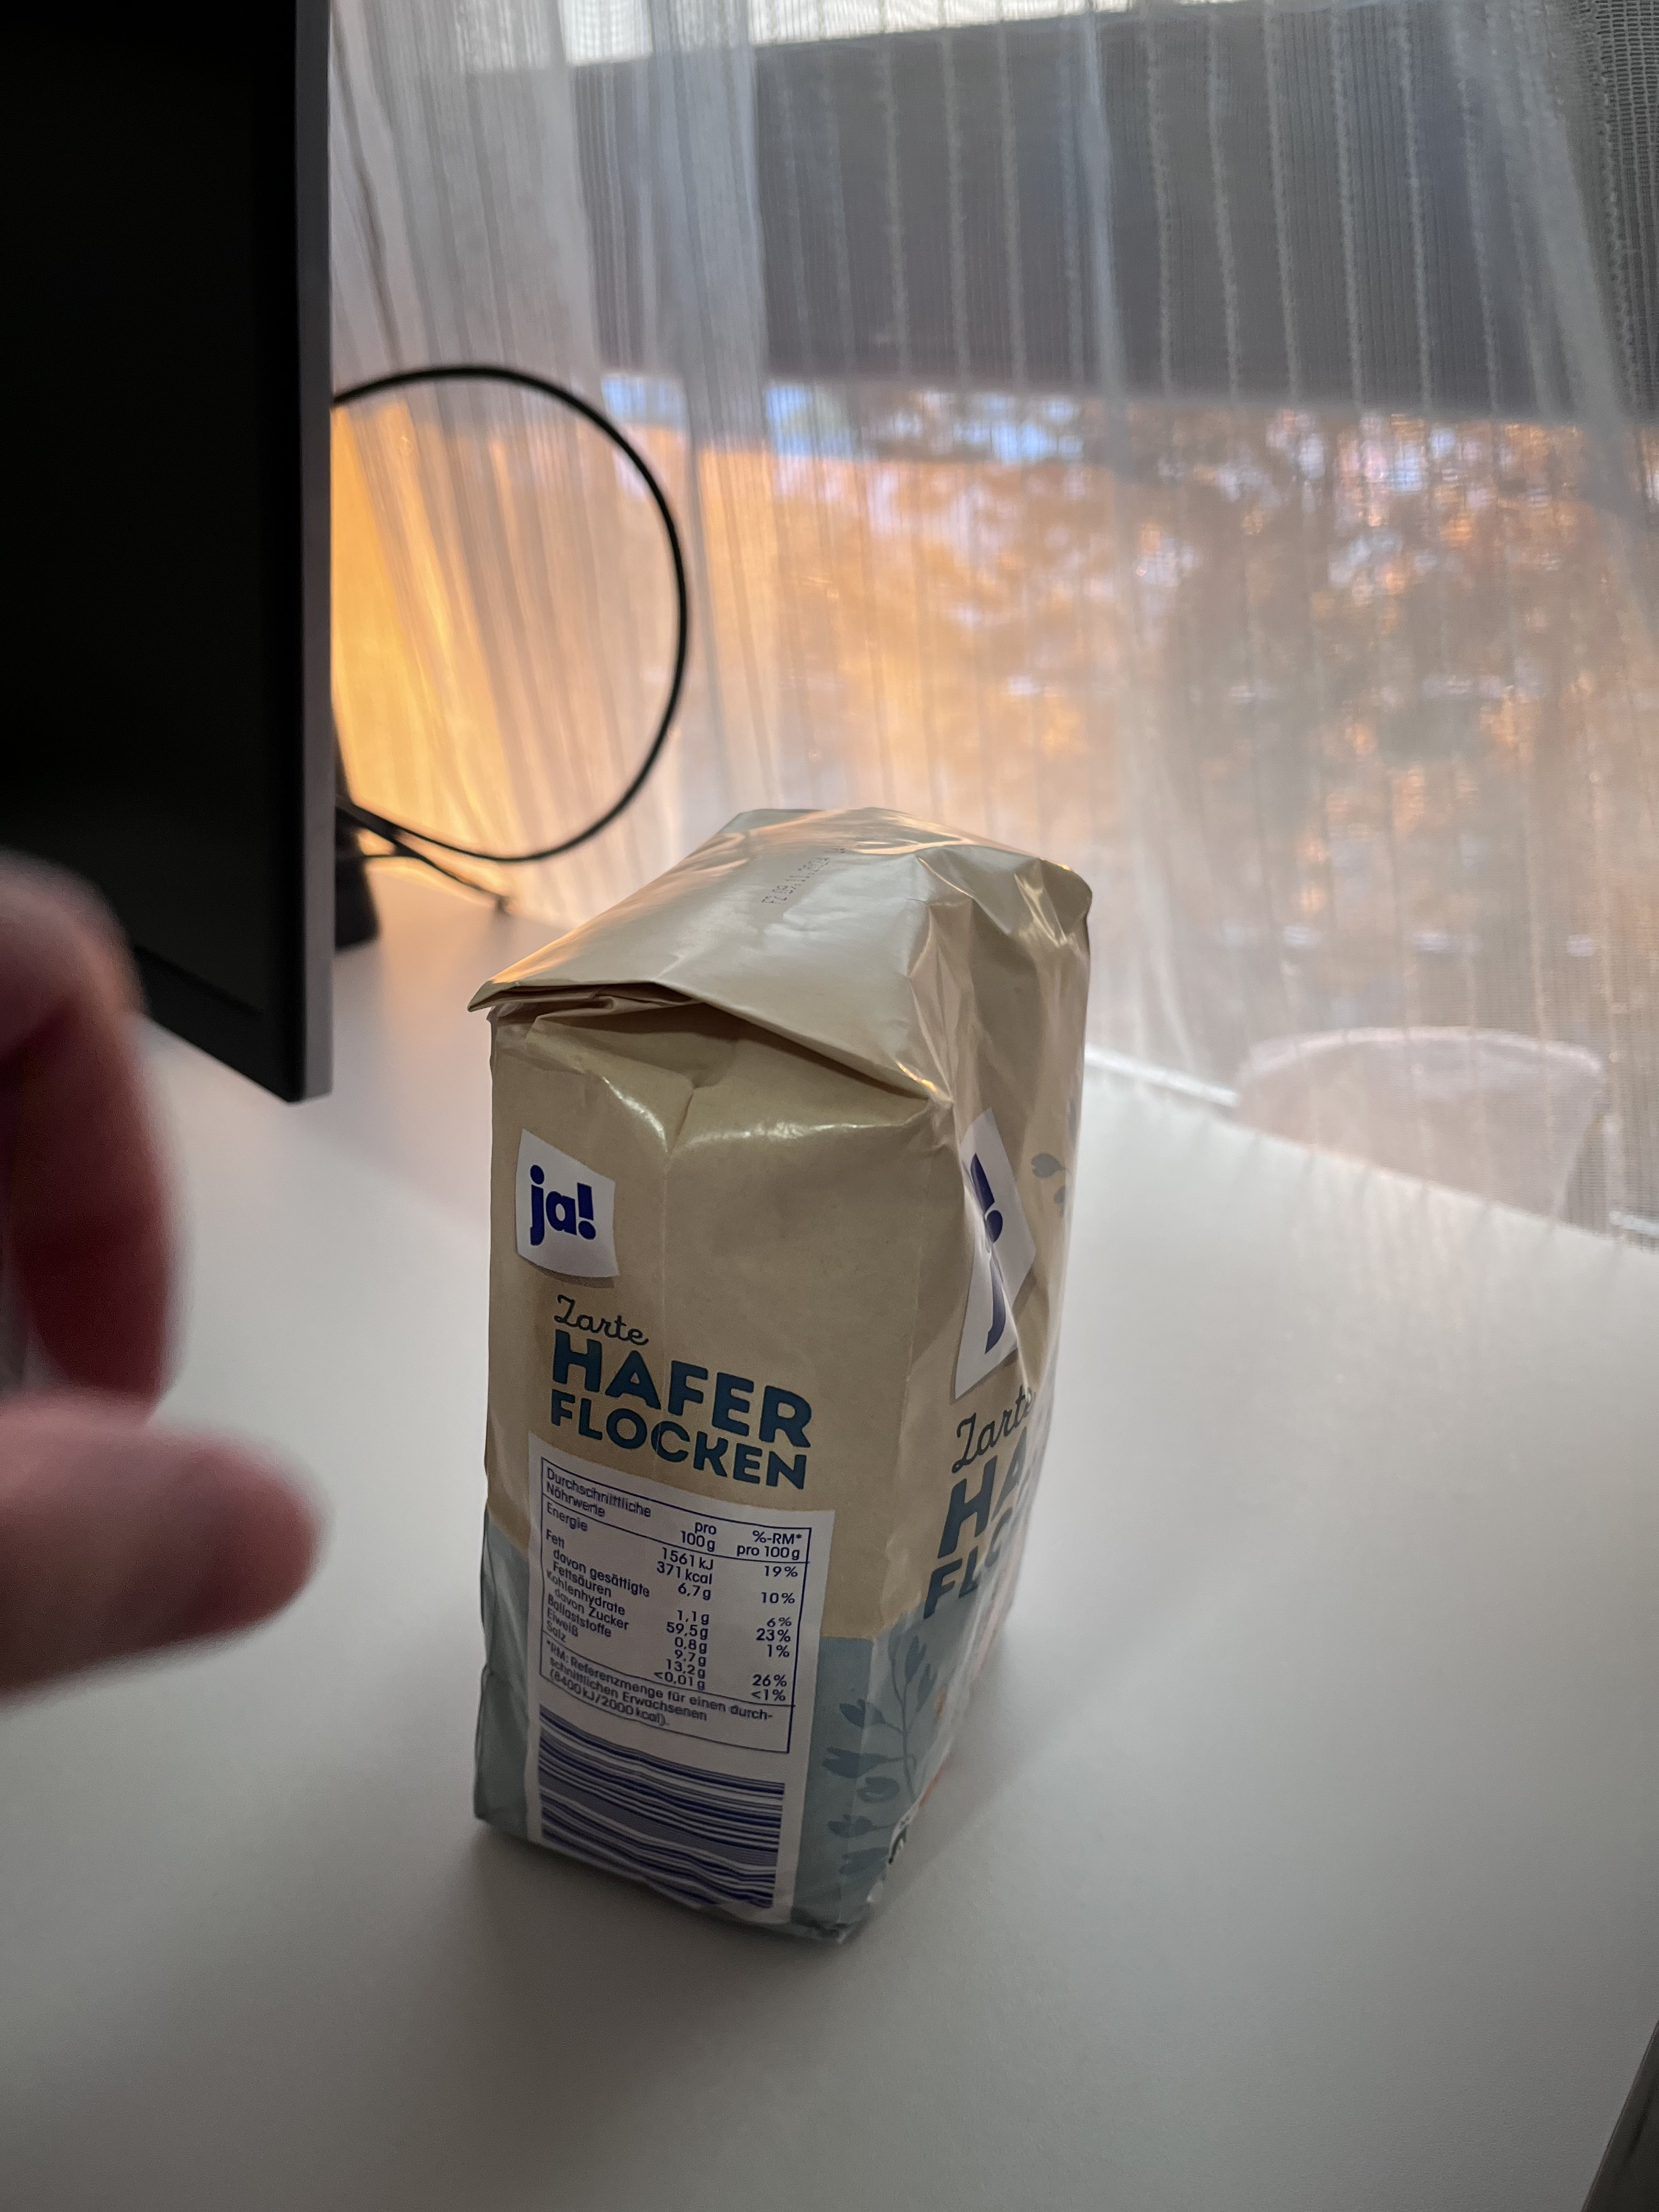haferflocken_ja: (465, 805, 1094, 1947)
